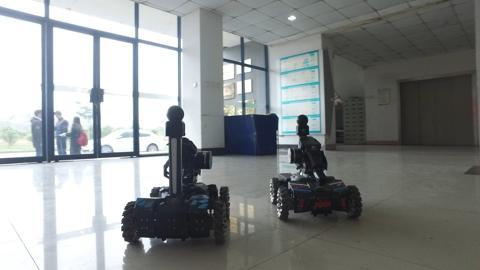chariot: (118, 106, 240, 248), (263, 109, 372, 231)
